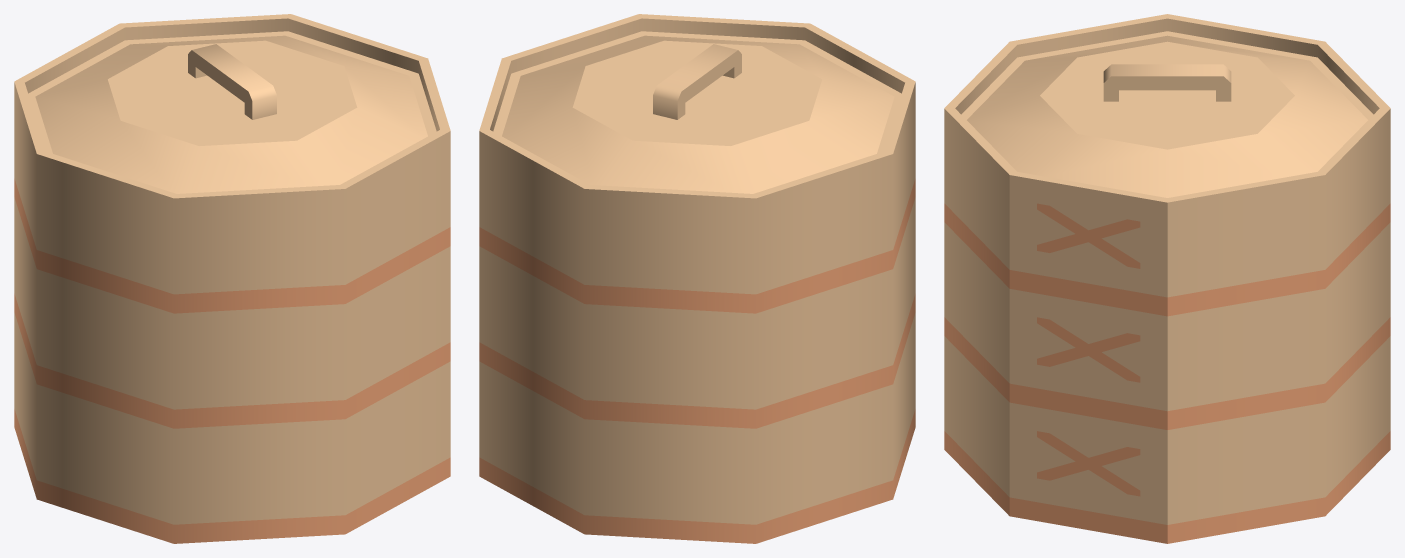
File: steamer.obj
3 views of the same model, side by side, from view 1: azimuth 30°, elevation 25°; view 2: azimuth 150°, elevation 25°; view 3: azimuth 270°, elevation 25° (orthographic).
Visible parts, largest first — view 1: layer, lid; view 2: layer, lid; view 3: layer, lid.
Part boxes in pixels (<box>): layer: <box>14,14,450,543</box>; lid: <box>35,35,427,193</box>; layer: <box>479,14,915,543</box>; lid: <box>502,35,894,193</box>; layer: <box>944,14,1390,543</box>; lid: <box>967,35,1367,197</box>.
Size of the model in its own units: 0.64 by 0.6 by 0.64.
